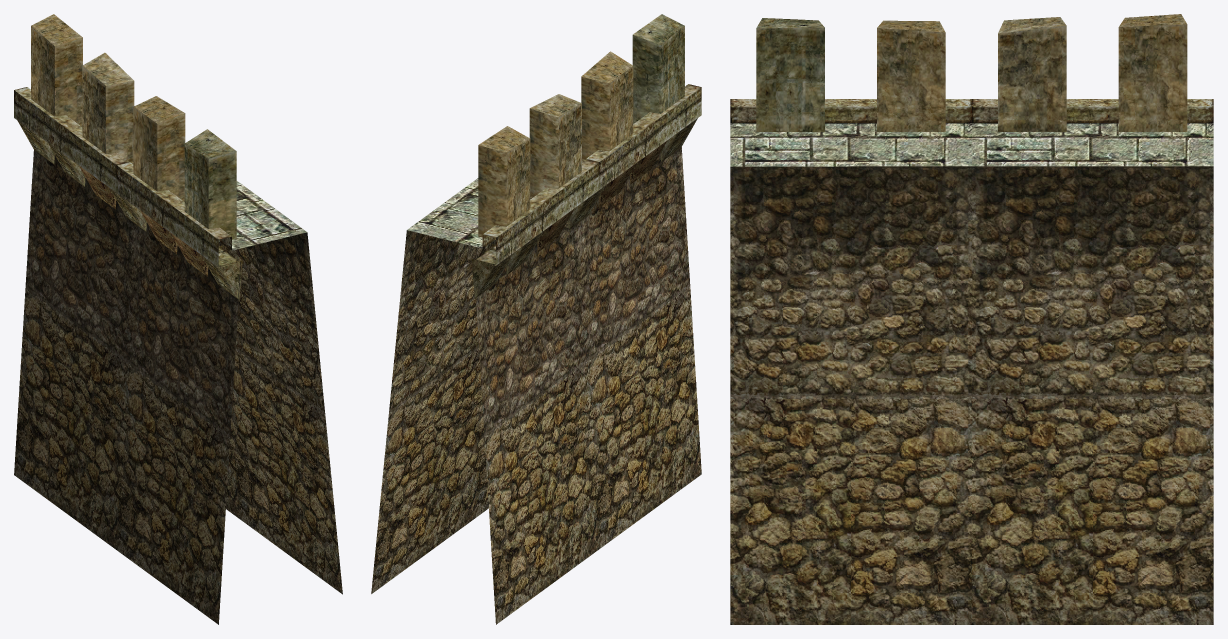
The model's file is hrz25.glb.
The picture shows the model from 3 angles, left to right: view 1: azimuth 30°, elevation 25°; view 2: azimuth 150°, elevation 25°; view 3: azimuth 270°, elevation 25°; orthographic projection. The views are drawn at different scales.
Visible parts, largest first — view 1: hrz25-col; view 2: hrz25-col; view 3: hrz25-col.
Boxes of the visible parts, left/top/right/bottom form: hrz25-col: left=14, top=14, right=342, bottom=624; hrz25-col: left=371, top=14, right=701, bottom=624; hrz25-col: left=730, top=14, right=1213, bottom=624.
Bounding box in the file's own units: 2.8 × 9.96 × 8.
10 materials, 10 textured.
